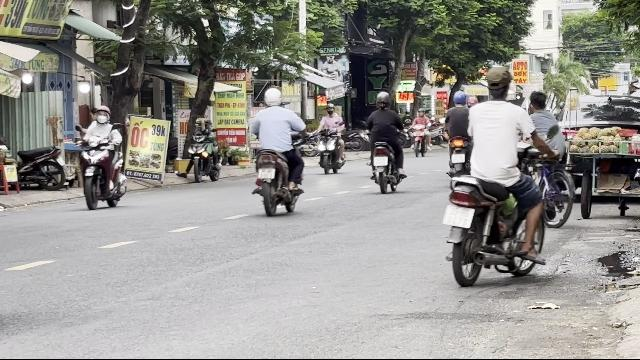helmet: (262, 87, 282, 107), (94, 104, 110, 124)
licenseplate: (443, 204, 475, 228), (259, 168, 275, 178)
motorcyclist: (440, 63, 552, 288), (248, 86, 306, 214), (78, 104, 128, 210)
nohelmet: (483, 65, 513, 99)
